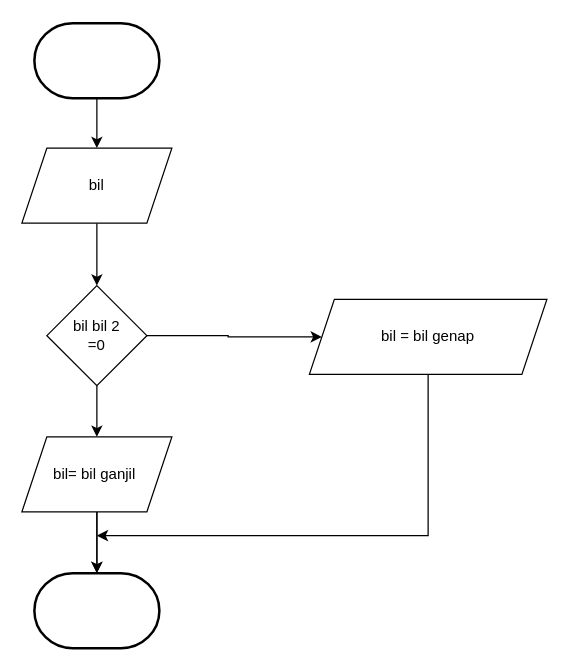
Image size: 569x670. Some labels were removed from this diagram. The box of each missing label's shape, as (x1, y1, x2, y2) in pixels:
end: (32, 571, 160, 649)
star: (32, 21, 160, 99)
